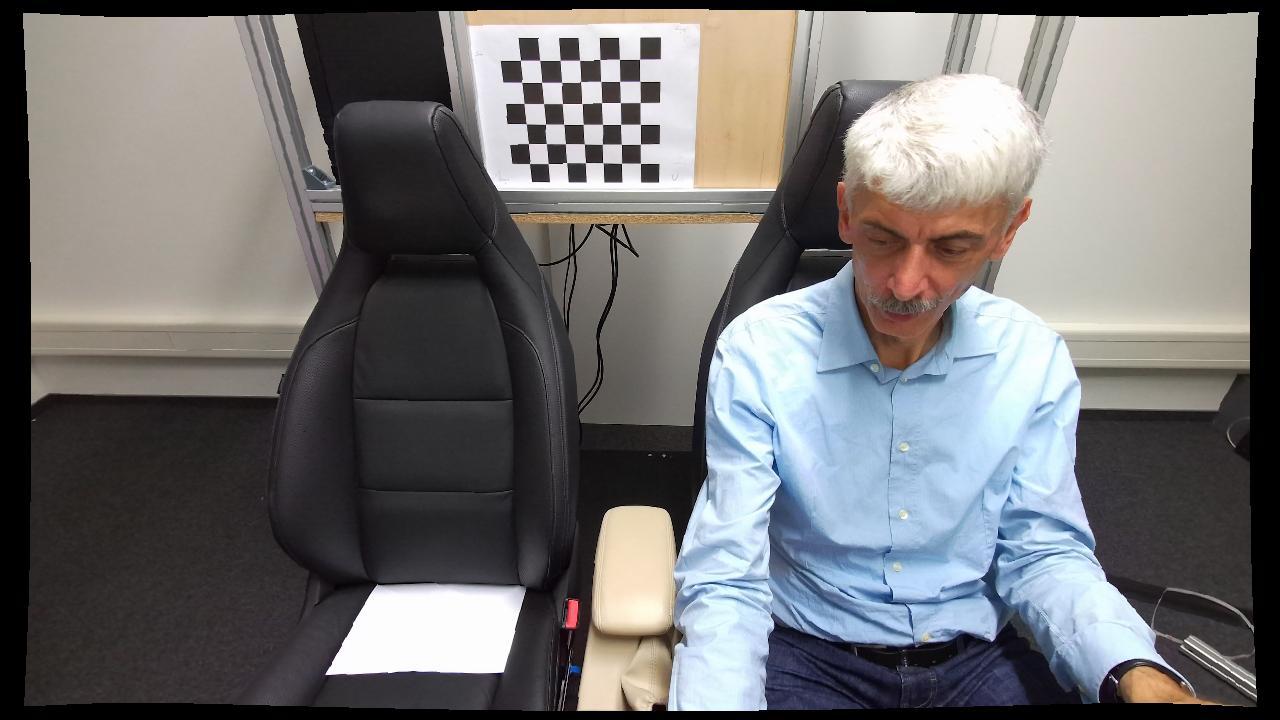Distracted: (661, 75, 1133, 714)
